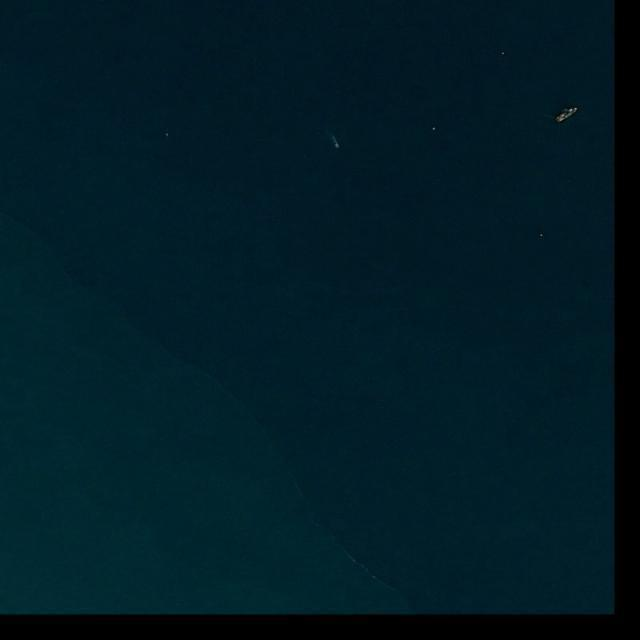ship: (554, 105, 579, 125), (334, 143, 341, 150)
